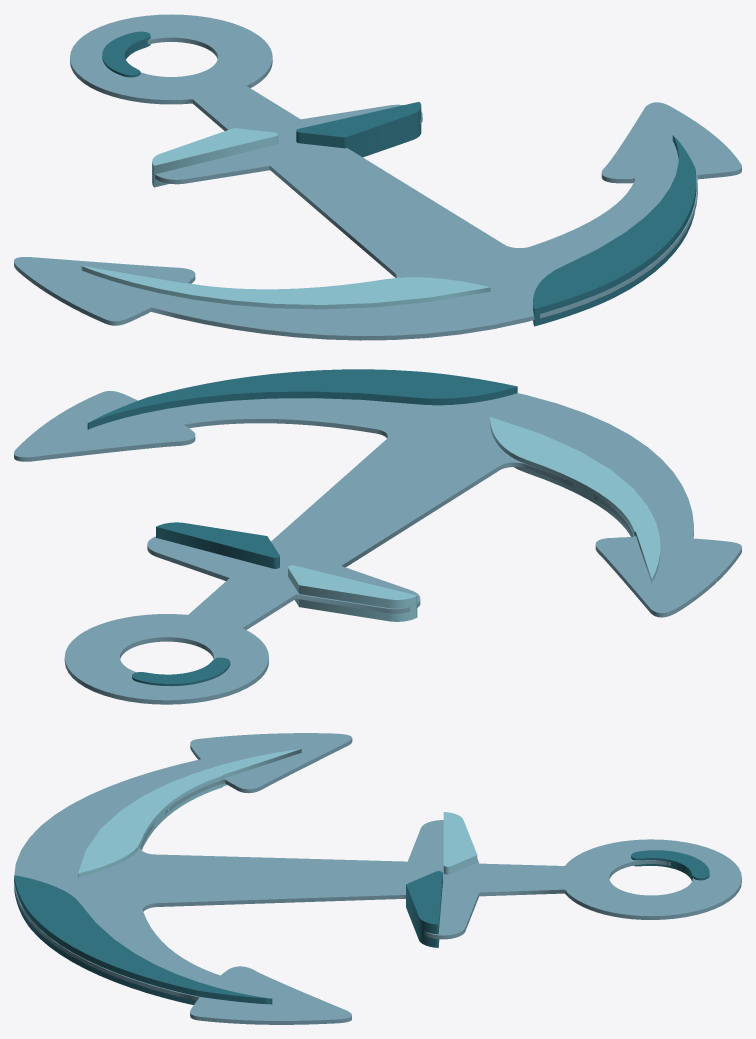
File: emoji_u2693.glb
The picture shows the model from 3 angles, top to bottom: view 1: azimuth 30°, elevation 25°; view 2: azimuth 150°, elevation 25°; view 3: azimuth 270°, elevation 25°; orthographic projection. The views are drawn at different scales.
Visible parts, largest first — view 1: emoji_u2693; view 2: emoji_u2693; view 3: emoji_u2693.
Part boxes in pixels (x1,y1,x2,y2): emoji_u2693: (14, 14, 741, 340); emoji_u2693: (14, 369, 741, 704); emoji_u2693: (14, 733, 741, 1024).
Size of the model in its own units: 0.0317 by 0.0012 by 0.0339.
